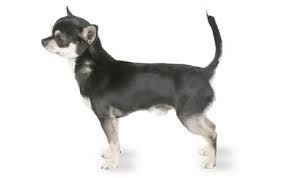Chihuahua: (27, 1, 239, 173)
